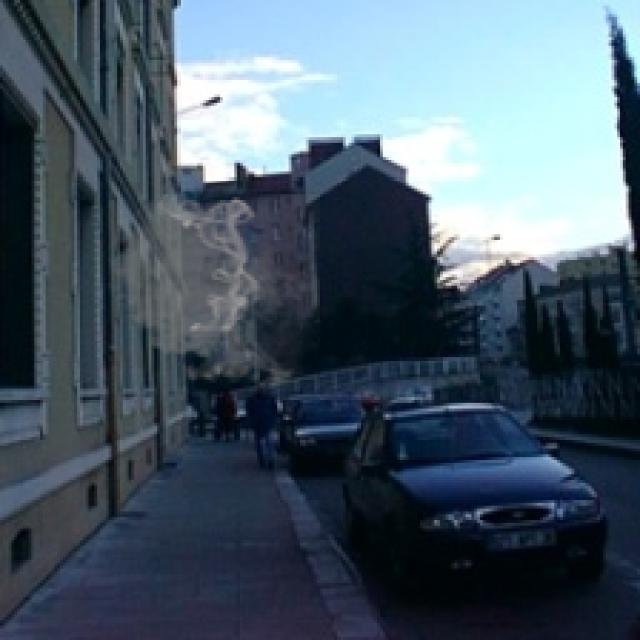smoke: (100, 192, 320, 394)
